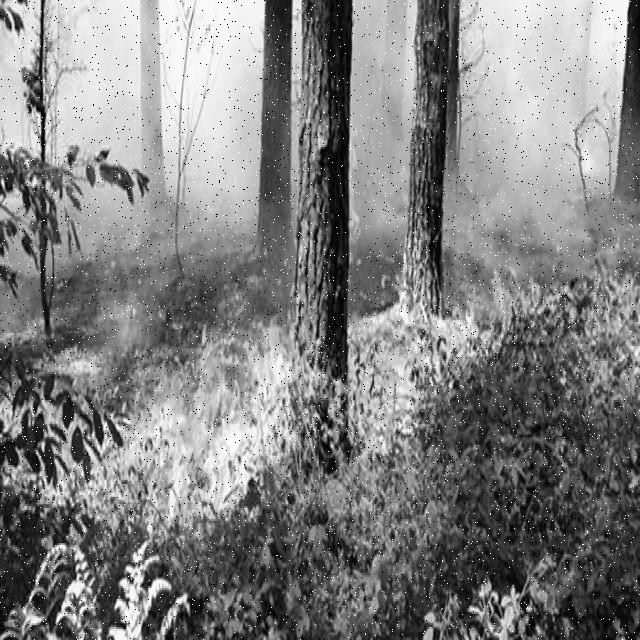api: (120, 351, 284, 510), (348, 316, 456, 438), (476, 285, 550, 337), (349, 132, 361, 270)
asap: (482, 14, 590, 264), (74, 25, 184, 234), (80, 258, 170, 342)
